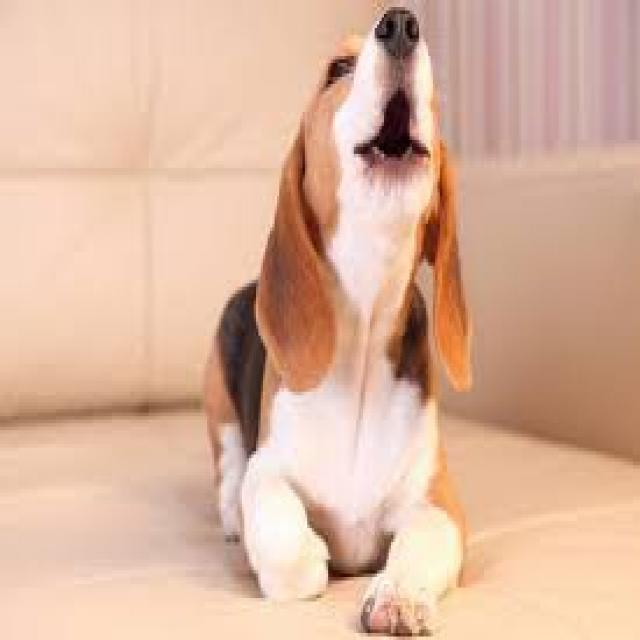Dog: (197, 0, 474, 640)
